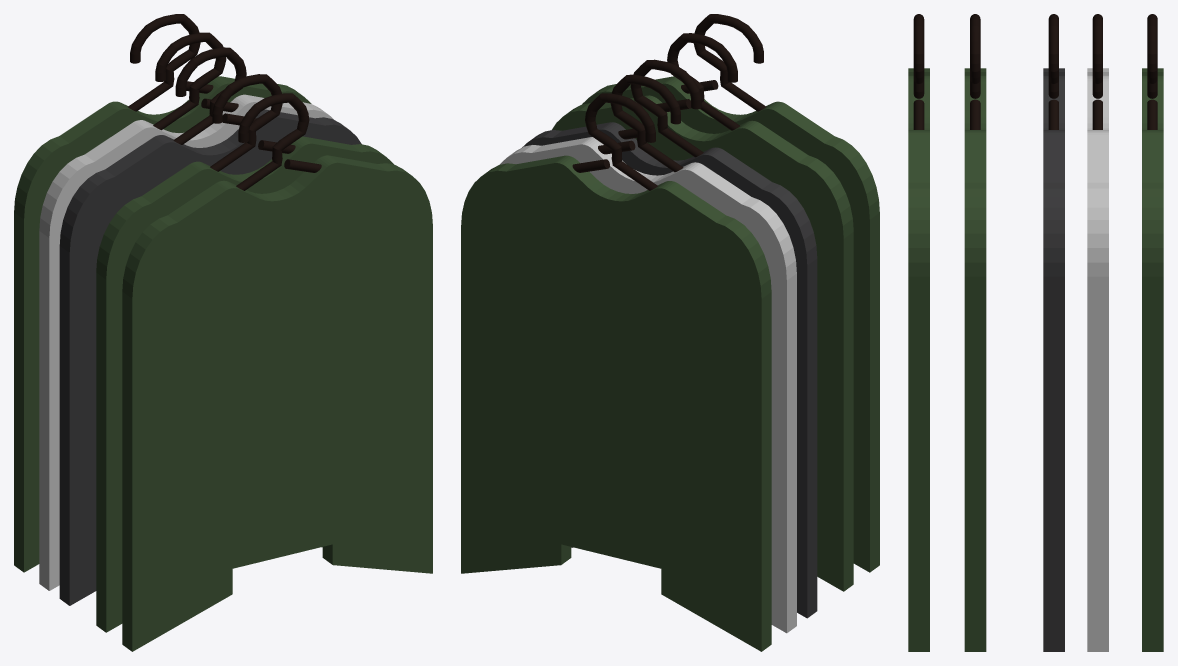
Rendered from hanger&clothes.fbx.
3 views of the same model, side by side, from view 1: azimuth 30°, elevation 25°; view 2: azimuth 150°, elevation 25°; view 3: azimuth 270°, elevation 25° (orthographic). The views are drawn at different scales.
Parts seen in each view (by area): view 1: cloth, cloth.002, cloth.001, cloth.004, cloth.003, hanger, hanger.004, hanger.002, hanger.005, hanger.003; view 2: cloth.004, cloth.001, cloth.003, cloth, cloth.002, hanger.005, hanger.004, hanger.003, hanger, hanger.002; view 3: cloth.001, cloth.004, cloth, cloth.002, cloth.003, hanger, hanger.004, hanger.002, hanger.003, hanger.005.
Boxes of the visible parts, box(x1,y1,x2,y2) form: cloth: box(122, 155, 432, 651); cloth.002: box(59, 109, 361, 605); cloth.001: box(96, 136, 393, 632); cloth.004: box(14, 76, 311, 572); cloth.003: box(39, 94, 333, 590); hanger: box(236, 93, 321, 190); hanger.004: box(153, 32, 238, 130); hanger.002: box(210, 74, 295, 171); hanger.005: box(128, 14, 213, 111); hanger.003: box(173, 47, 256, 144); cloth.004: box(461, 155, 771, 651); cloth.001: box(552, 95, 853, 591); cloth.003: box(499, 137, 796, 633); cloth: box(582, 76, 879, 572); cloth.002: box(522, 122, 817, 618); hanger.005: box(572, 93, 657, 190); hanger.004: box(598, 74, 683, 172); hanger.003: box(618, 59, 703, 157); hanger: box(681, 14, 766, 111); hanger.002: box(657, 33, 739, 130); cloth.001: box(964, 68, 986, 651); cloth.004: box(1142, 68, 1163, 651); cloth: box(908, 68, 929, 651); cloth.002: box(1043, 68, 1064, 651); cloth.003: box(1087, 68, 1108, 651); hanger: box(913, 14, 924, 129); hanger.004: box(1092, 14, 1102, 129); hanger.002: box(970, 14, 980, 129); hanger.003: box(1048, 14, 1058, 129); hanger.005: box(1147, 14, 1157, 129).
Size of the model in its own units: 39.46 by 64.84 by 26.9.
